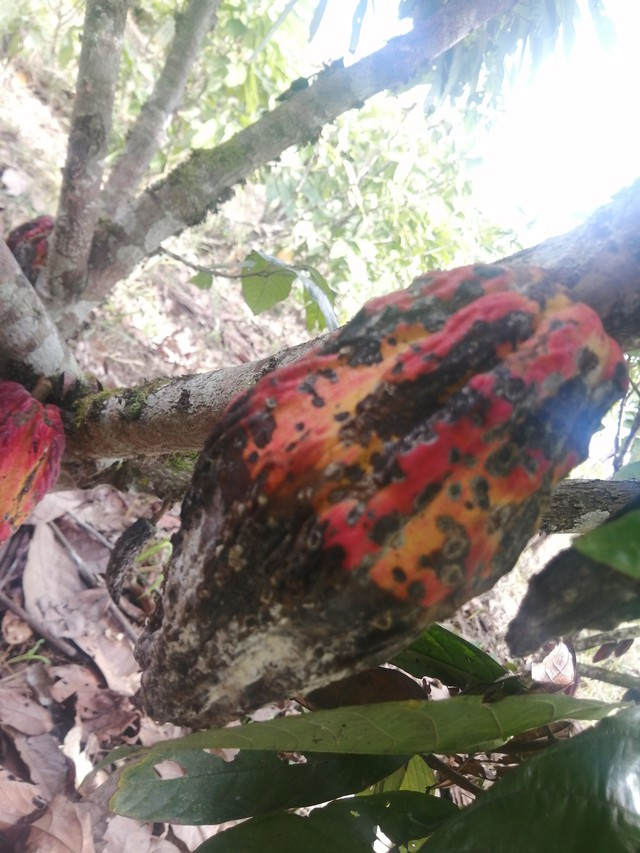moniliophthora roreri: (118, 248, 640, 739)
